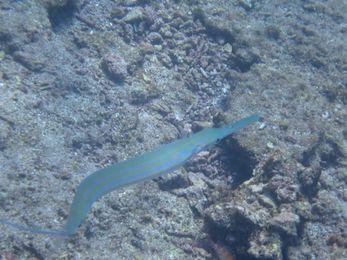Fistularia commersonii: (0, 110, 262, 239)
